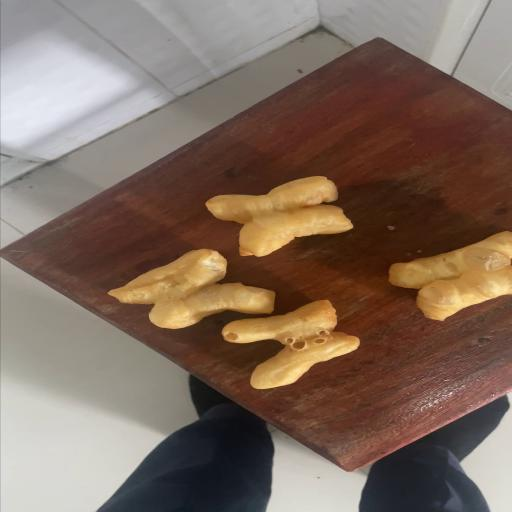street_golden_defect: (218, 301, 358, 387)
street_golden_good: (111, 249, 273, 328), (208, 176, 354, 255)
